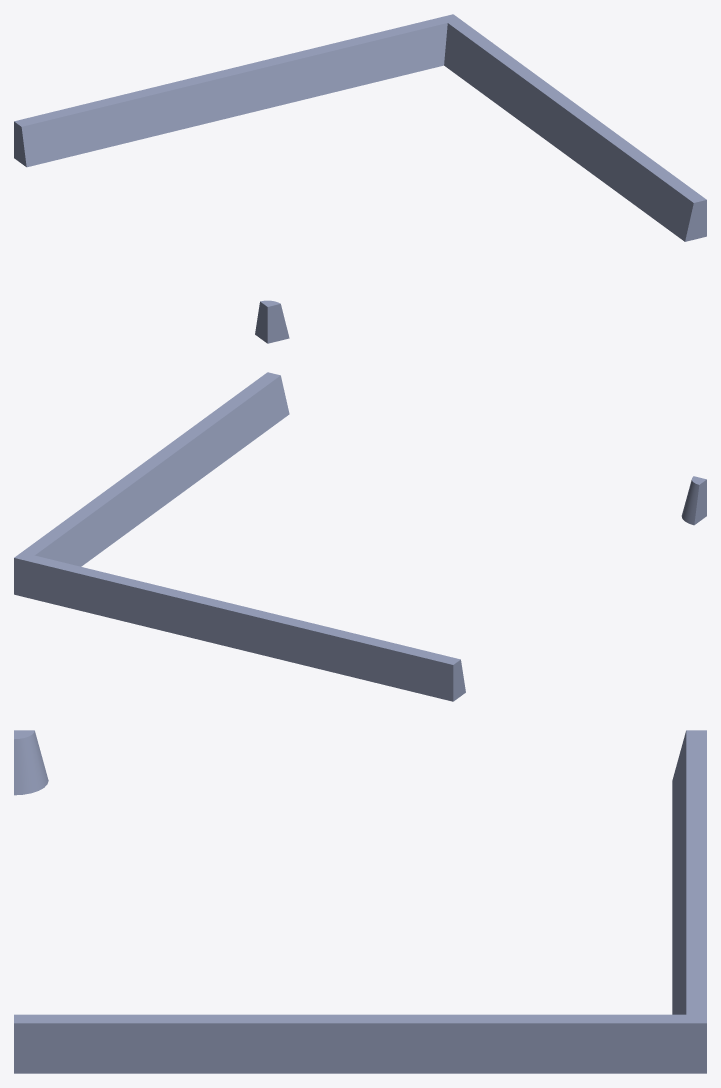
The model's file is road-bend-square-barrier.glb.
3 renders of one model, top to bottom at view 1: azimuth 30°, elevation 25°; view 2: azimuth 150°, elevation 25°; view 3: azimuth 270°, elevation 25°, orthographic. The views are drawn at different scales.
Visible parts, largest first — view 1: road-bend-square-barrier; view 2: road-bend-square-barrier; view 3: road-bend-square-barrier.
Boxes of the visible parts, x1,y1,x2,y2 form: road-bend-square-barrier: (14,14,706,343); road-bend-square-barrier: (14,372,706,701); road-bend-square-barrier: (14,730,706,1073).
Size of the model in its own units: 1 by 0.08 by 1.
1 material, 1 textured.
